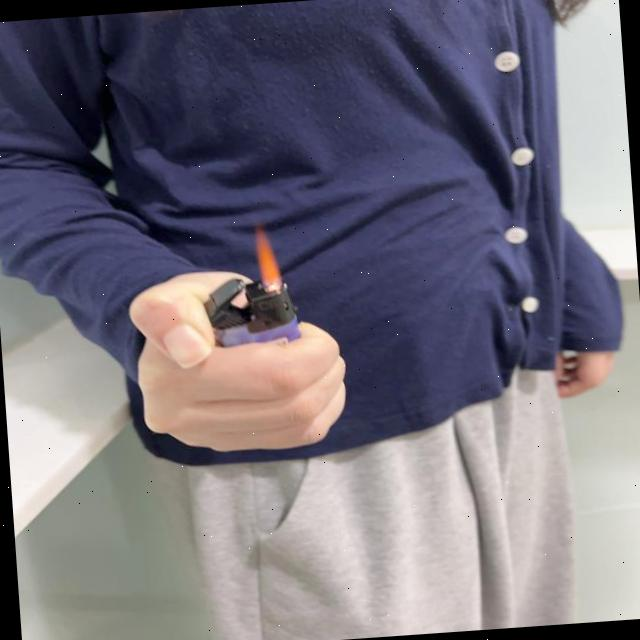fire: (248, 220, 283, 294)
